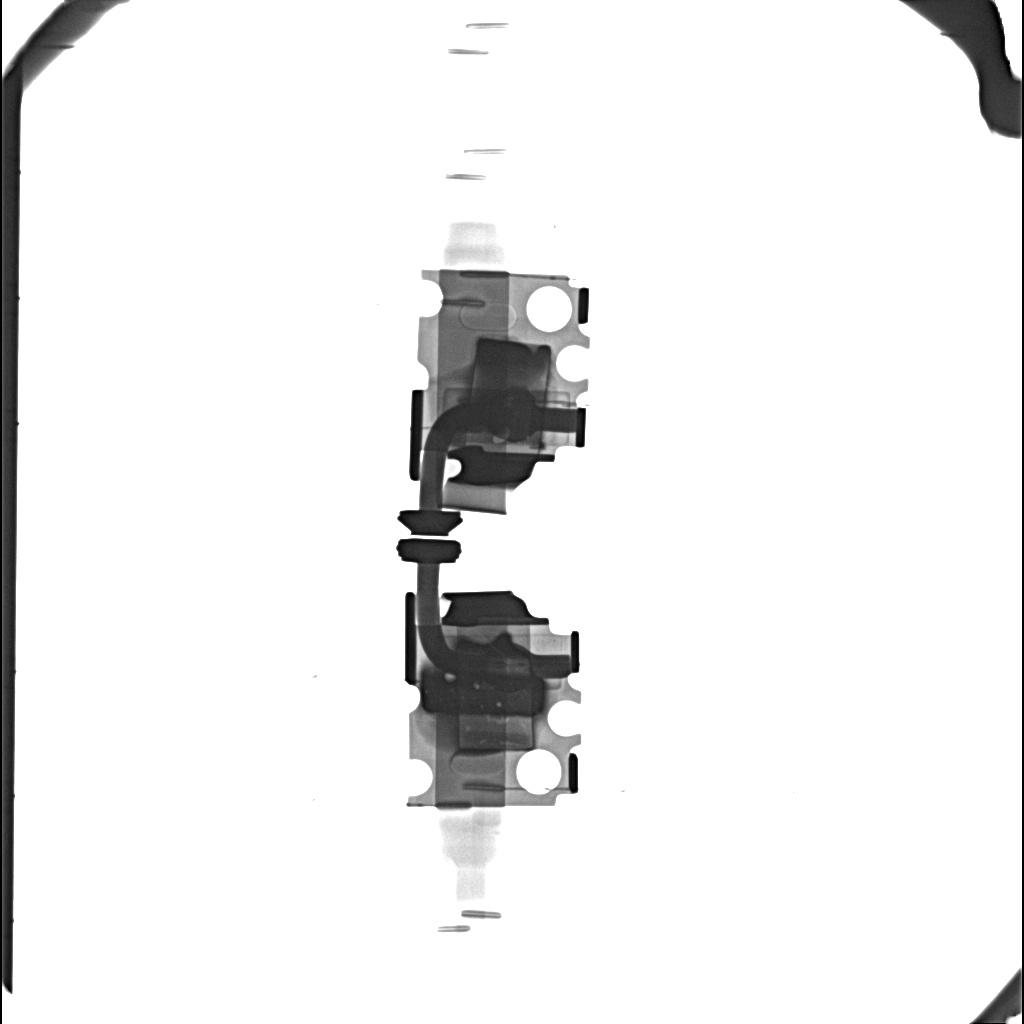PX: (470, 338, 552, 401), (456, 715, 535, 751)
QP: (492, 436, 505, 443)
SX: (421, 669, 544, 716), (459, 390, 544, 440)
